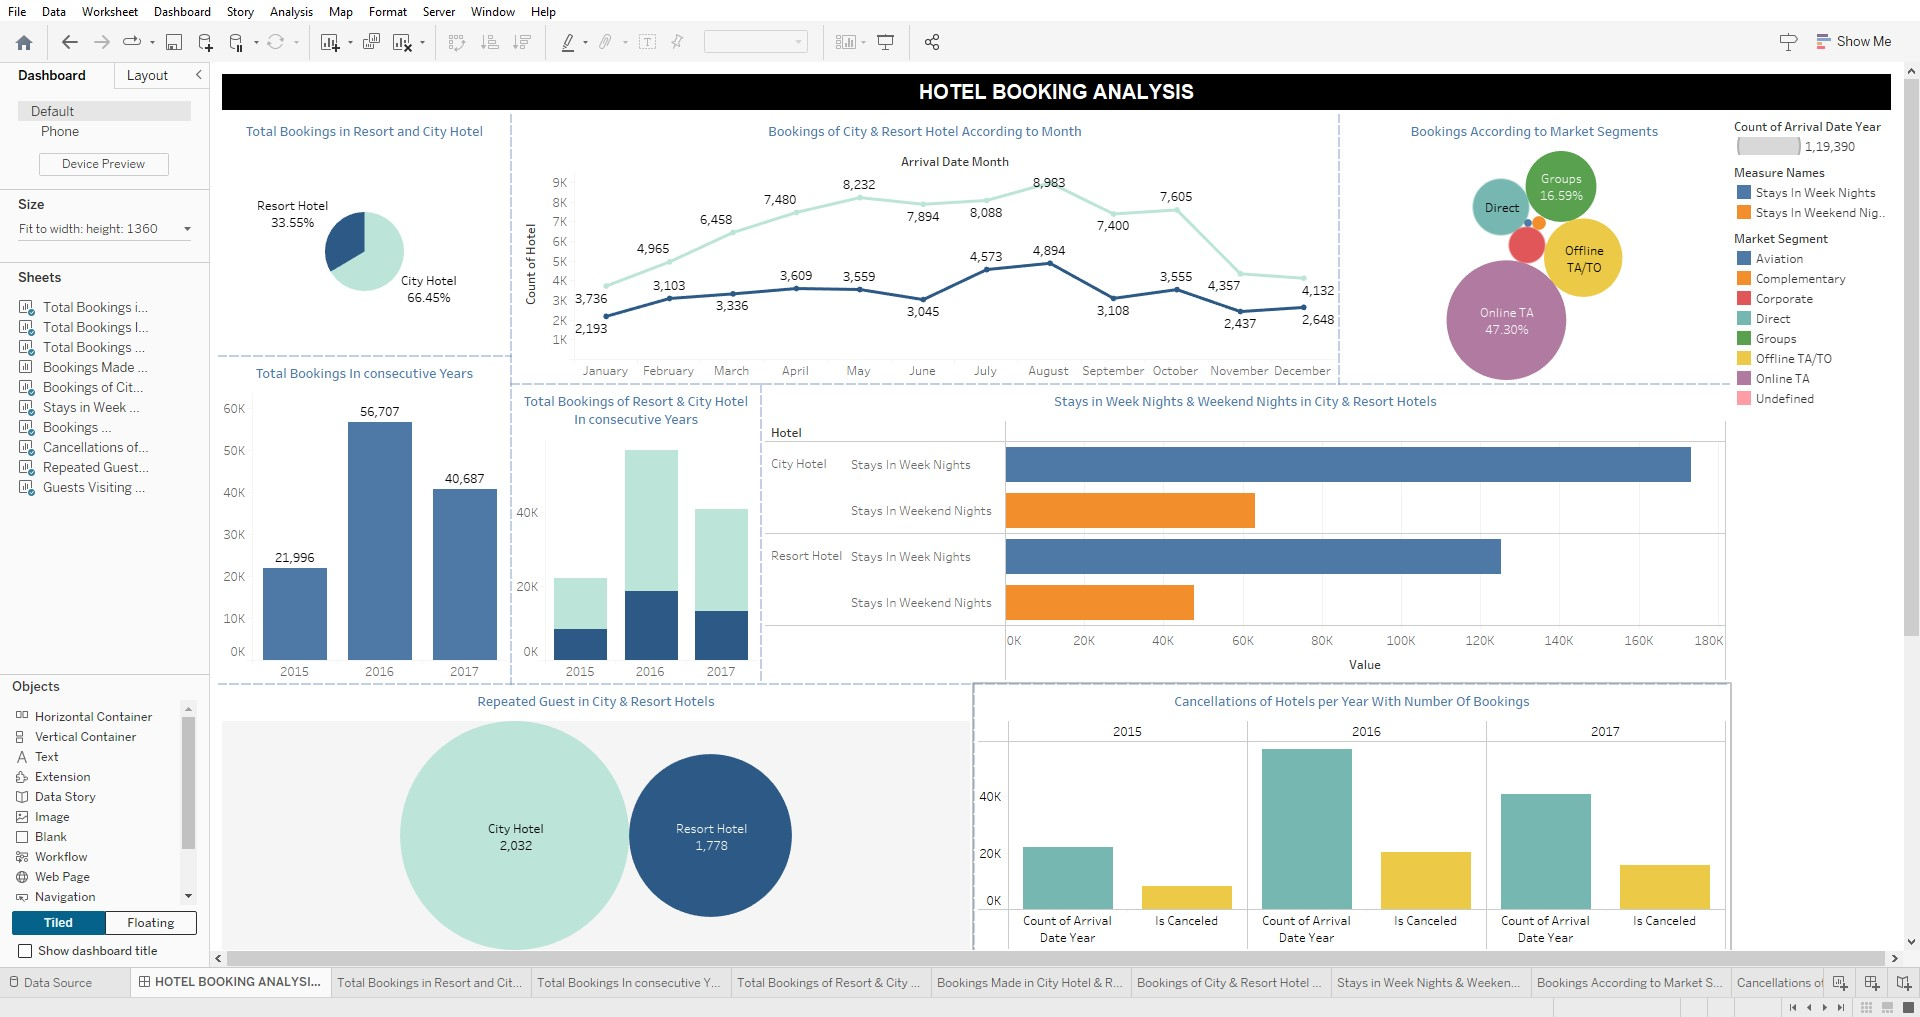

This screenshot's page, from the dashboard's own definition file:
{"tool":"tableau","page":{"name":"HOTEL BOOKING ANALYSIS DASHBOARD","canvas":[1000,1000],"units":"permille","ordinal":0},"visuals":[{"type":"text","box":[4.7,5.9,990.5,32.4]},{"type":"worksheet","title":"Total Bookings in Resort and City Hotel","mark":"Pie","box":[4.7,38.2,173.1,177.6]},{"type":"worksheet","title":"Bookings of City & Resort Hotel According to Month","mark":"Line","rows":["hotel"],"cols":["arrival_date_month"],"box":[177.8,38.2,488.9,198.3]},{"type":"worksheet","title":"Bookings According to Market Segments","mark":"Circle","box":[666.7,38.2,231.1,198.3]},{"type":"legend","title":"Total Bookings in Resort and City Hotel","param":"[federated.036sm221leutw11gxdtny17am2sd].[cnt:arrival_date_year:qk]","box":[897.8,38.2,97.5,33.8]},{"type":"legend","title":"Stays in Week Nights & Weekend Nights in City & Resort Hotels","param":"[federated.036sm221leutw11gxdtny17am2sd].[:Measure Names]","box":[897.8,72.1,97.5,48.5]},{"type":"legend","title":"Bookings According to Market Segments","param":"[federated.036sm221leutw11gxdtny17am2sd].[none:market_segment:nk]","box":[897.8,120.6,97.5,136.8]},{"type":"worksheet","title":"Total Bookings In consecutive Years","mark":"Bar","rows":["arrival_date_year"],"cols":["arrival_date_year"],"box":[4.7,215.9,173.1,241.7]},{"type":"worksheet","title":"Total Bookings of Resort & City Hotel In consecutive Years","mark":"Bar","rows":["hotel"],"cols":["arrival_date_year"],"box":[177.8,236.5,147.8,221.1]},{"type":"worksheet","title":"Stays in Week Nights & Weekend Nights in City & Resort Hotels","mark":"Automatic","rows":["hotel"],"box":[325.6,236.5,572.2,221.1]},{"type":"text","box":[897.8,257.4,97.5,13.2]},{"type":"worksheet","title":"Repeated Guest in City & Resort Hotels","mark":"Circle","box":[4.7,457.6,446.5,198.3]},{"type":"worksheet","title":"Cancellations of Hotels per Year With Number Of Bookings","mark":"Bar","cols":["arrival_date_year"],"box":[451.2,457.6,446.6,198.3]},{"type":"worksheet","title":"Guests Visiting From Different Countries","mark":"Multipolygon","box":[4.7,655.9,893.1,338.2]}]}

Visuals, with their boxes on the dashboard's canvas, which has no fixed pixel size, in thousandths of its width and height (x1, y1, x2, y2). These are canvas units, not pixel positions in the 1920x1017 screenshot, which may show the page scaled, cropped or inside an application window:
text: 5/6/995/38
"Total Bookings in Resort and City Hotel" worksheet (Pie marks): 5/38/178/216
"Bookings of City & Resort Hotel According to Month" worksheet (Line marks): 178/38/667/236
"Bookings According to Market Segments" worksheet (Circle marks): 667/38/898/236
"Total Bookings in Resort and City Hotel" legend: 898/38/995/72
"Stays in Week Nights & Weekend Nights in City & Resort Hotels" legend: 898/72/995/121
"Bookings According to Market Segments" legend: 898/121/995/257
"Total Bookings In consecutive Years" worksheet (Bar marks): 5/216/178/458
"Total Bookings of Resort & City Hotel In consecutive Years" worksheet (Bar marks): 178/236/326/458
"Stays in Week Nights & Weekend Nights in City & Resort Hotels" worksheet: 326/236/898/458
text: 898/257/995/271
"Repeated Guest in City & Resort Hotels" worksheet (Circle marks): 5/458/451/656
"Cancellations of Hotels per Year With Number Of Bookings" worksheet (Bar marks): 451/458/898/656
"Guests Visiting From Different Countries" worksheet (Multipolygon marks): 5/656/898/994
